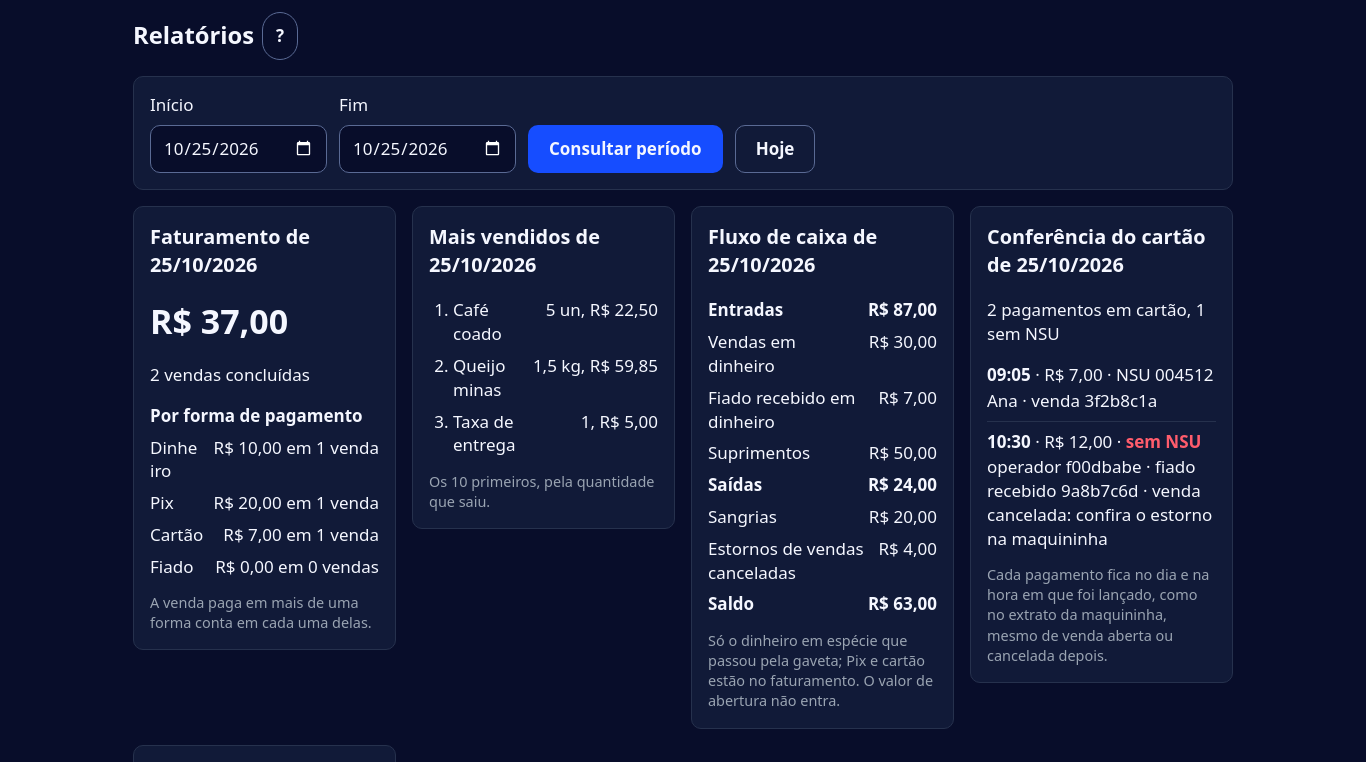
Scenario: relatórios na tela › consulta o período escolhido nos três relatórios e volta para hoje
The width and height of the screenshot is (1366, 762).
Type "2026-09-01" into the date field labelled "Início" at {"x": 238, "y": 149}, box [150,125,327,173]
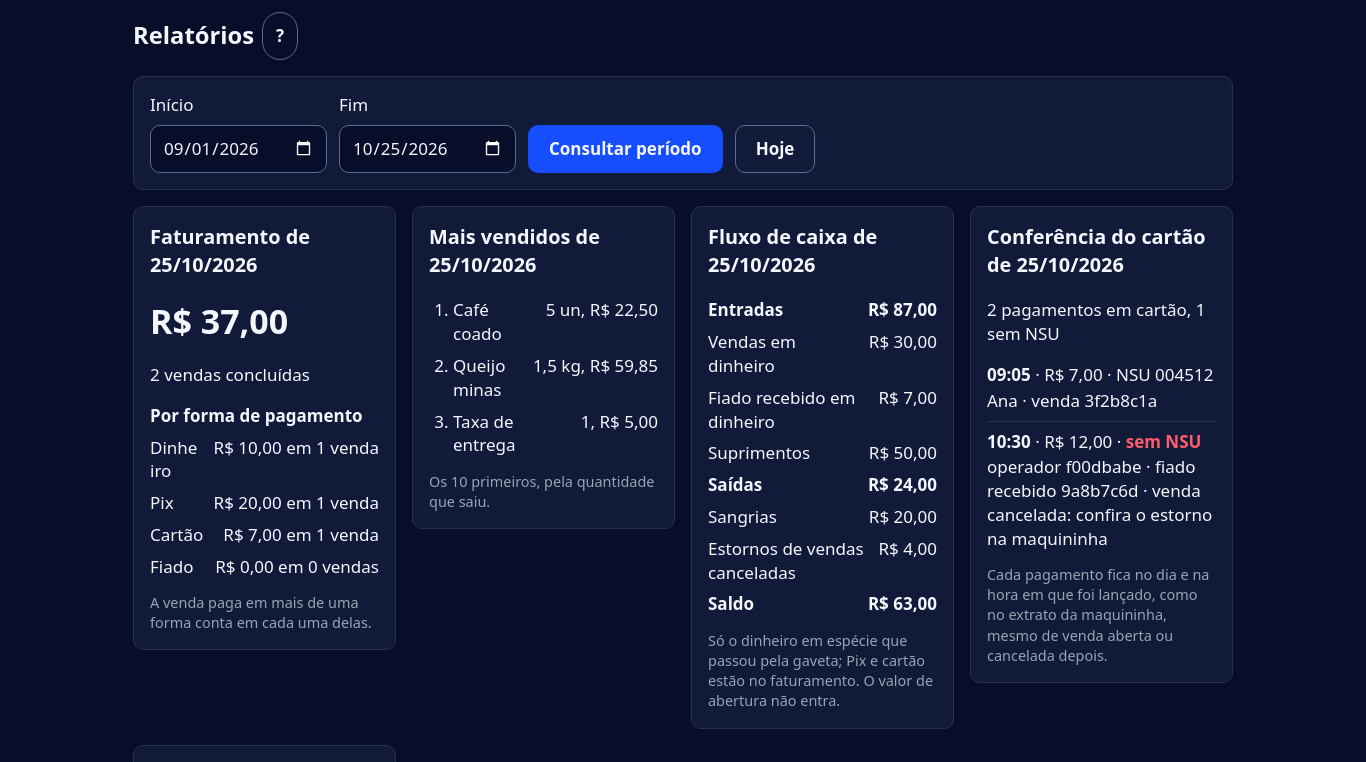
Type "2026-09-15" into the date field labelled "Fim" at {"x": 428, "y": 149}, box [339,125,516,173]
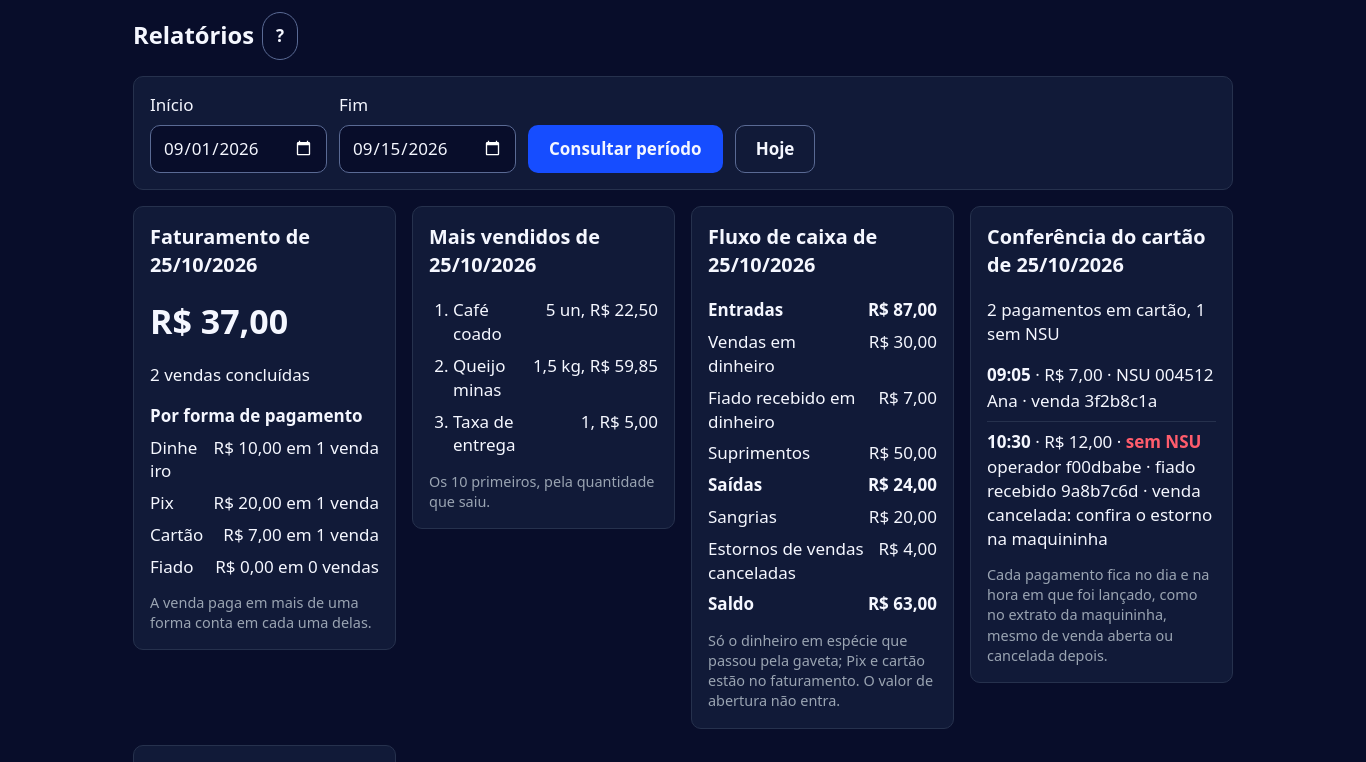
Click the button "Consultar período" at {"x": 625, "y": 149}, box [528,125,723,173]
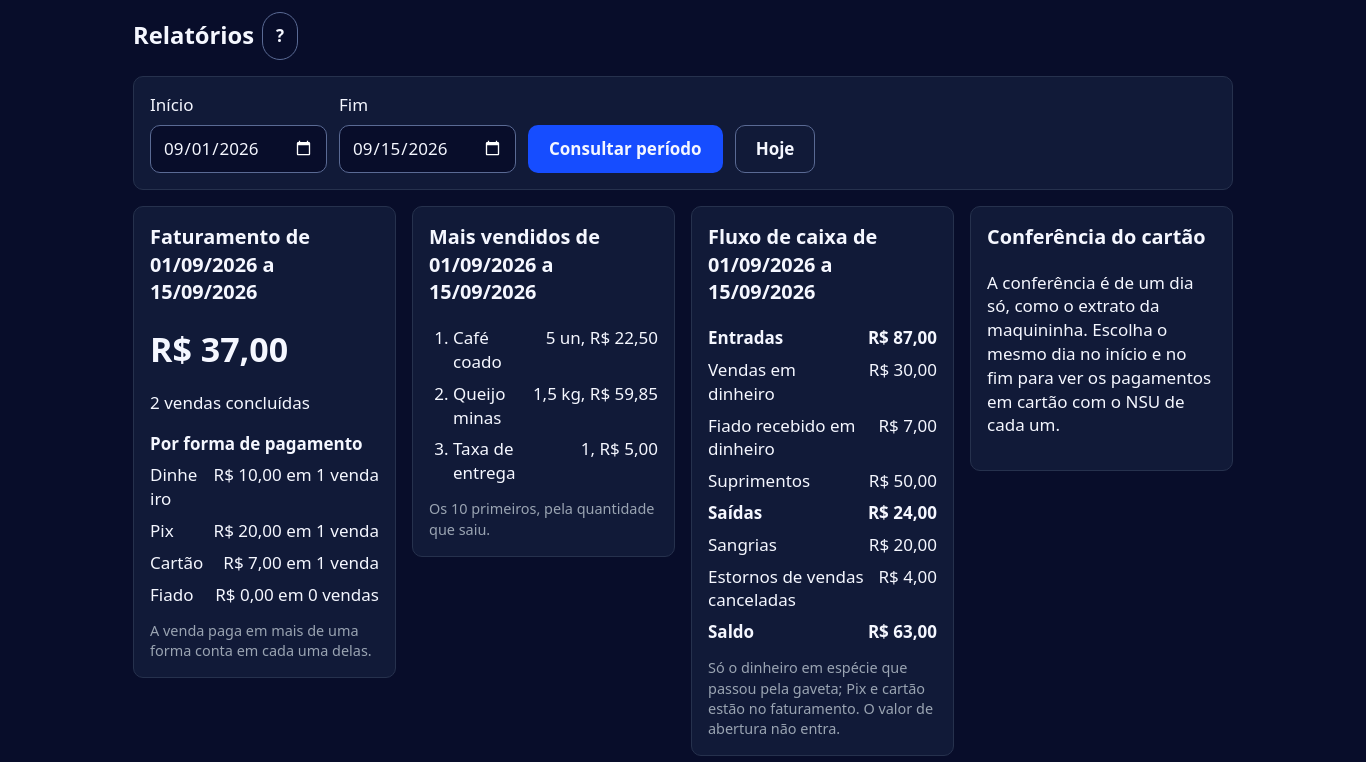
Expected: the heading "Faturamento de 01/09/2026 a 15/09/2026" is shown, [150,223,310,306]
Expected: the heading "Mais vendidos de 01/09/2026 a 15/09/2026" is shown, [429,223,600,306]
Expected: the heading "Fluxo de caixa de 01/09/2026 a 15/09/2026" is shown, [708,223,877,306]
Click the button "Hoje" at {"x": 775, "y": 149}, box [735,125,815,173]
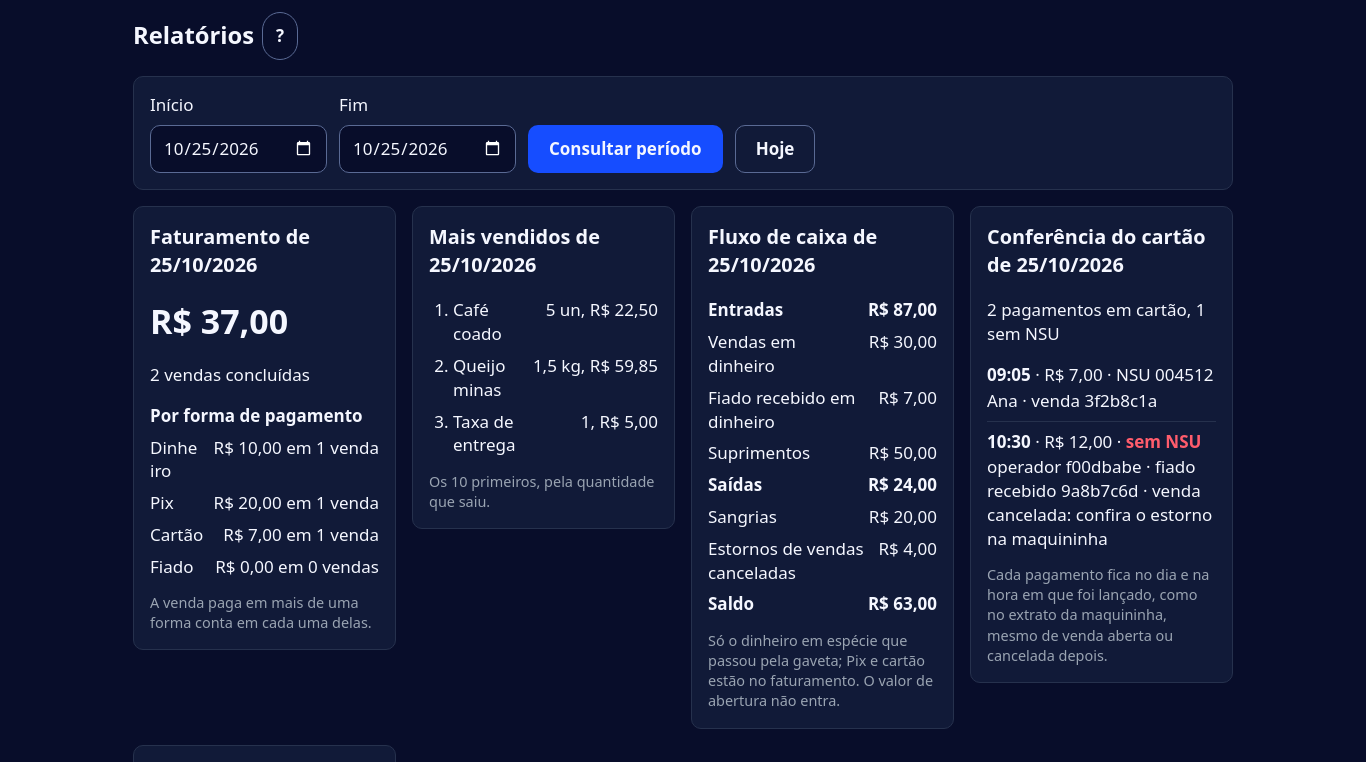
Expected: the date field labelled "Início" holds "2026-10-25", [150,125,327,173]
